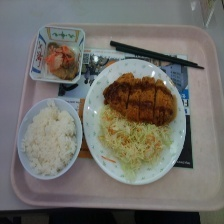rice: (19, 101, 79, 176)
